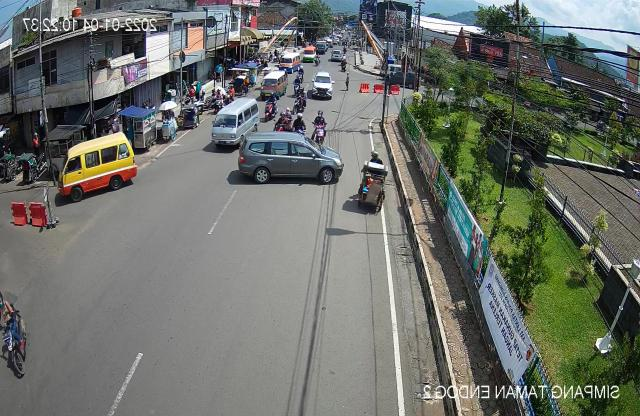Becak: (345, 147, 396, 214)
Mobil: (233, 130, 345, 192), (53, 128, 137, 209), (209, 95, 263, 151), (259, 71, 290, 98), (310, 68, 334, 100)
Motor: (0, 294, 30, 379), (309, 108, 329, 144), (262, 92, 278, 123)
